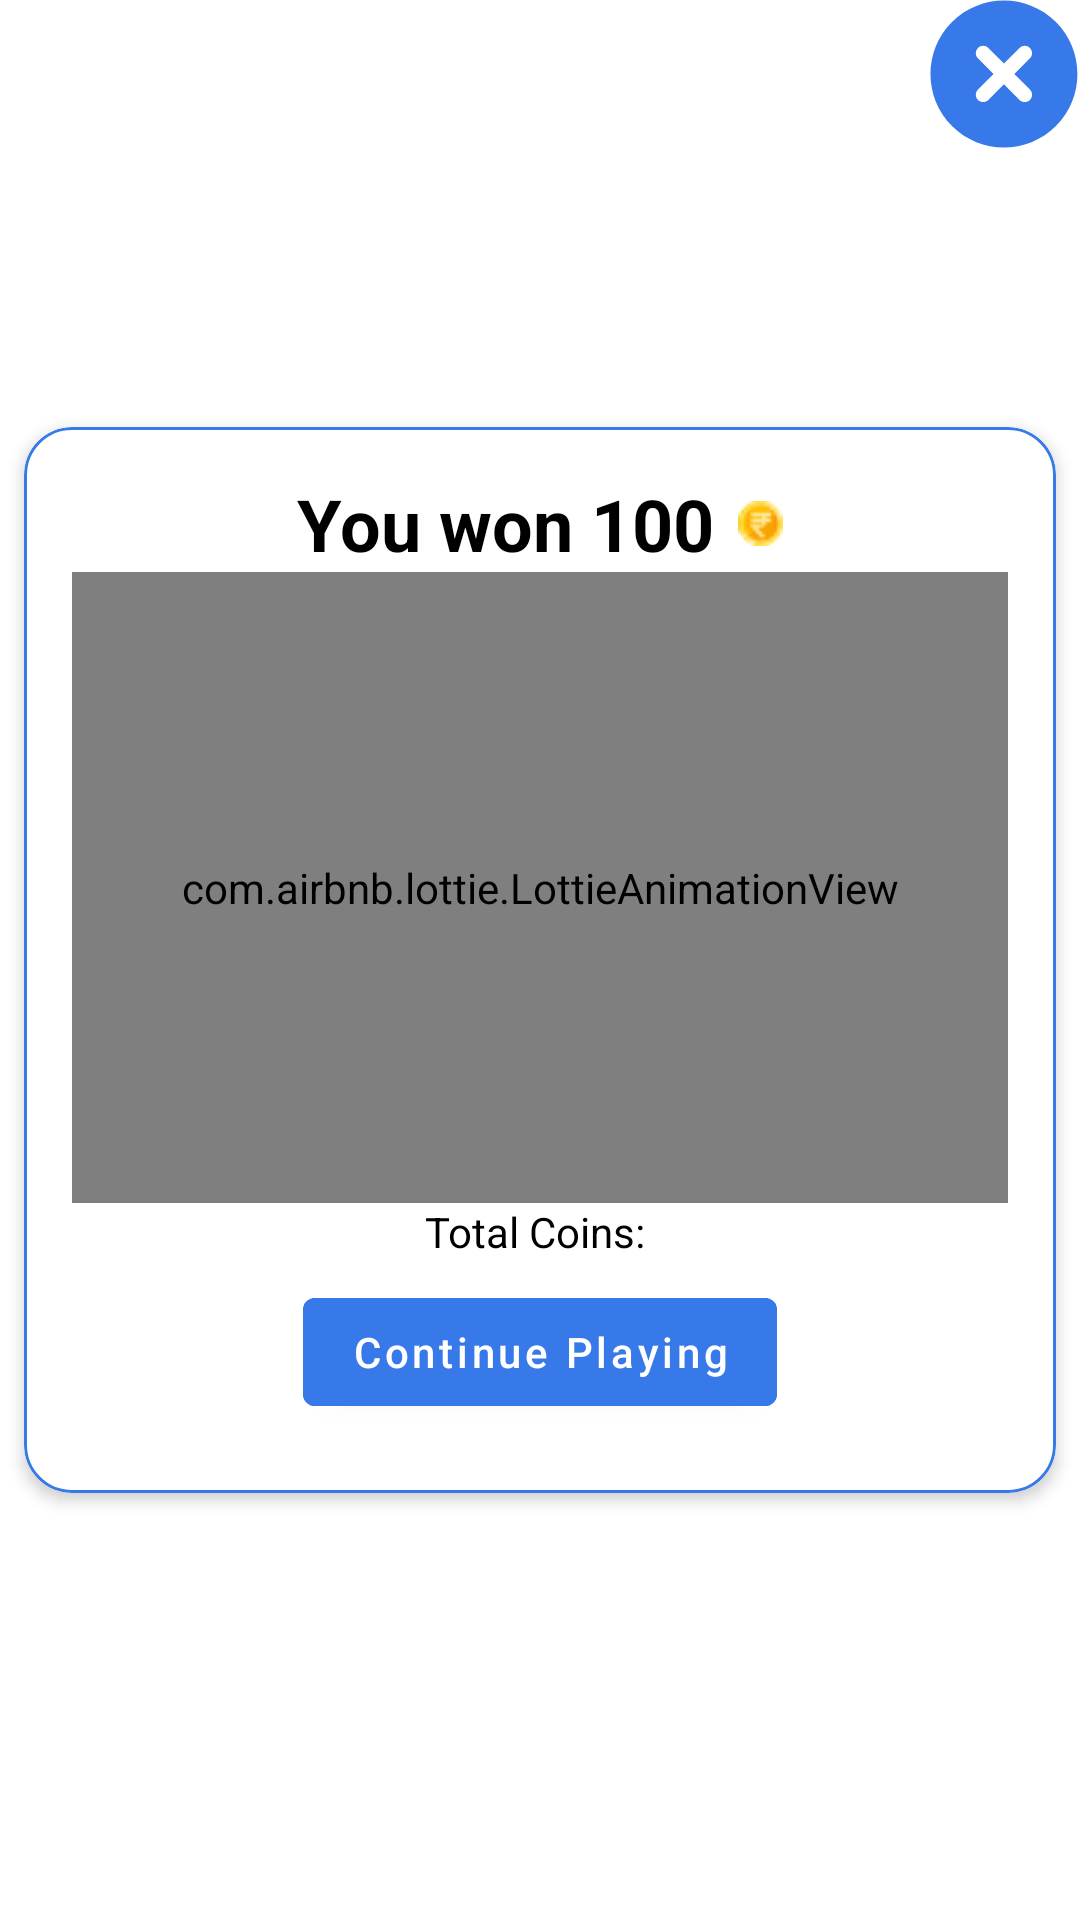

Icons on this 1080w x 1920h Android screen, each with its box as BBox(x1, y1, x2, y2):
close: BBox(930, 0, 1078, 148)
